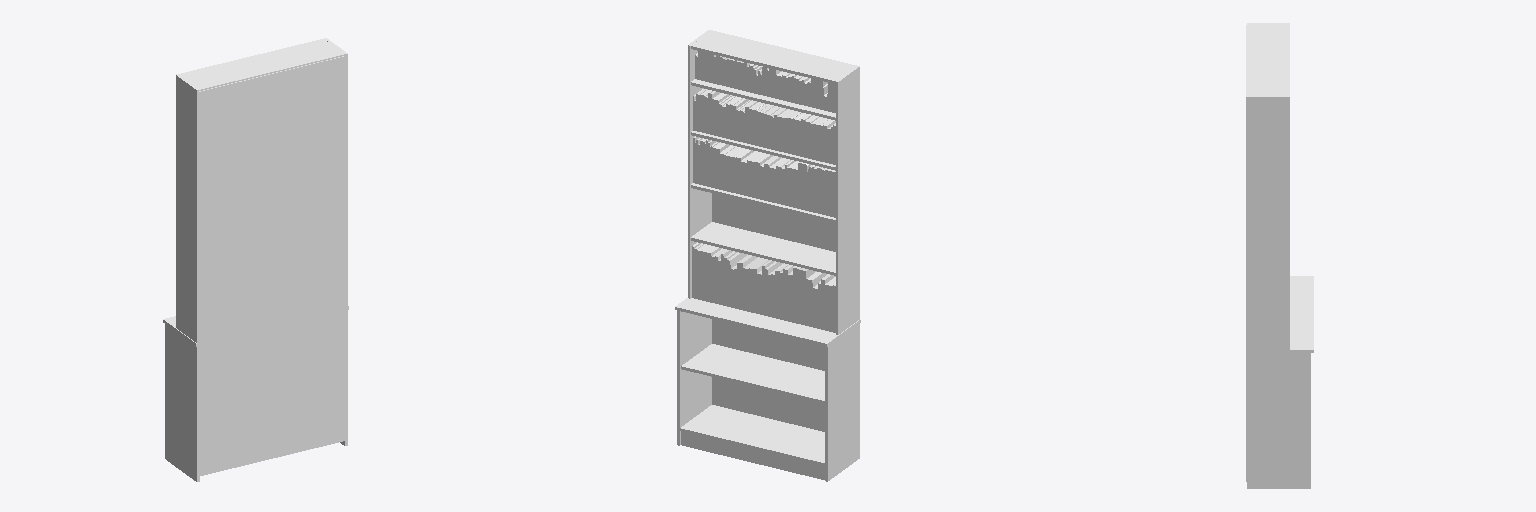
The model's file is bookcase.obj.
The picture shows the model from 3 angles: view 1: azimuth 30°, elevation 25°; view 2: azimuth 150°, elevation 25°; view 3: azimuth 270°, elevation 25°; orthographic projection.
Parts seen in each view (by area): view 1: bookcase; view 2: bookcase; view 3: bookcase.
Boxes of the visible parts, x1=… form: bookcase: x1=163, y1=38, x2=348, y2=481; bookcase: x1=675, y1=30, x2=860, y2=481; bookcase: x1=1246, y1=23, x2=1313, y2=488.
Size of the model in its own units: 1.08 by 2.65 by 0.4158.